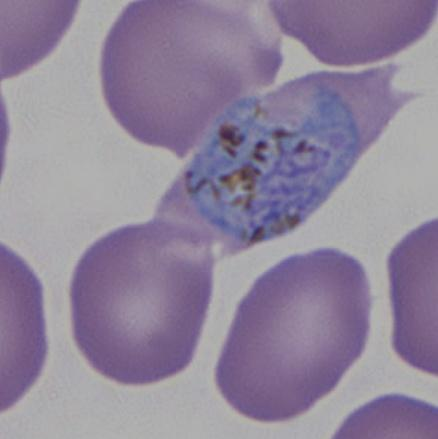Infected: (149, 59, 417, 267)
Uninfected: (99, 0, 286, 155), (217, 249, 367, 423), (67, 218, 214, 384)
